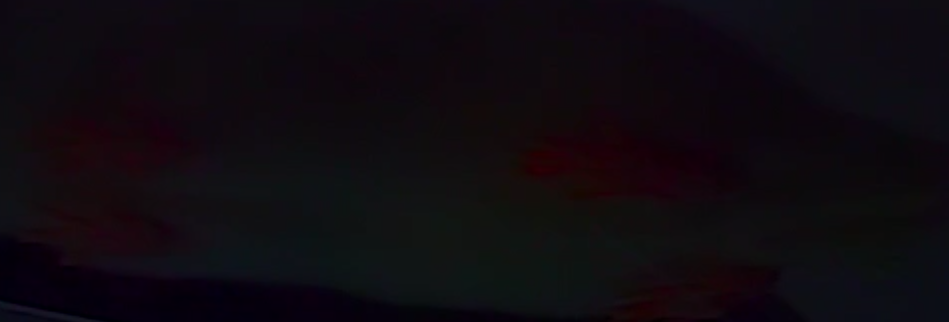paw: (492, 114, 743, 205), (19, 102, 220, 182), (16, 200, 227, 271), (586, 246, 782, 318)
